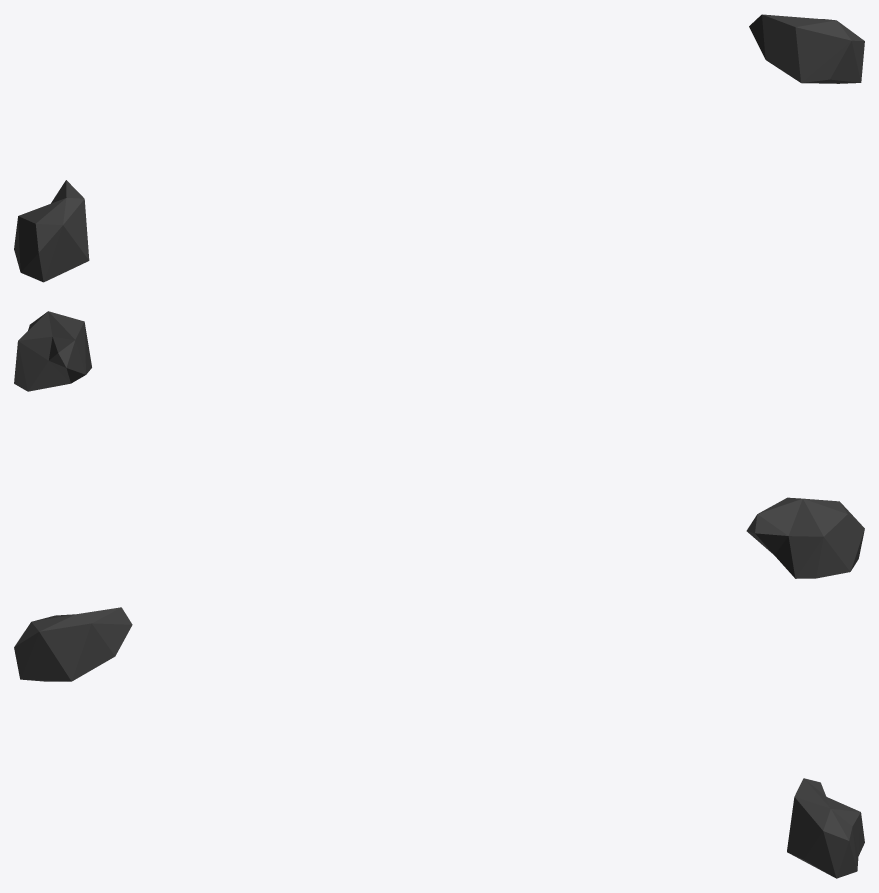
File: Carpal_second.glb
3 views of the same model, one above another, from view 1: azimuth 30°, elevation 25°; view 2: azimuth 150°, elevation 25°; view 3: azimuth 330°, elevation 25° (orthographic).
Parts seen in each view (by area): view 1: Carpal_second; view 2: Carpal_second; view 3: Carpal_second.
Part boxes in pixels (box(x1,y1,x2,y2)): Carpal_second: box(14, 14, 864, 282); Carpal_second: box(14, 311, 864, 578); Carpal_second: box(14, 607, 864, 878).
Size of the model in its own units: 0.00276 by 0.000217 by 0.000263.
1 material, 1 textured.
